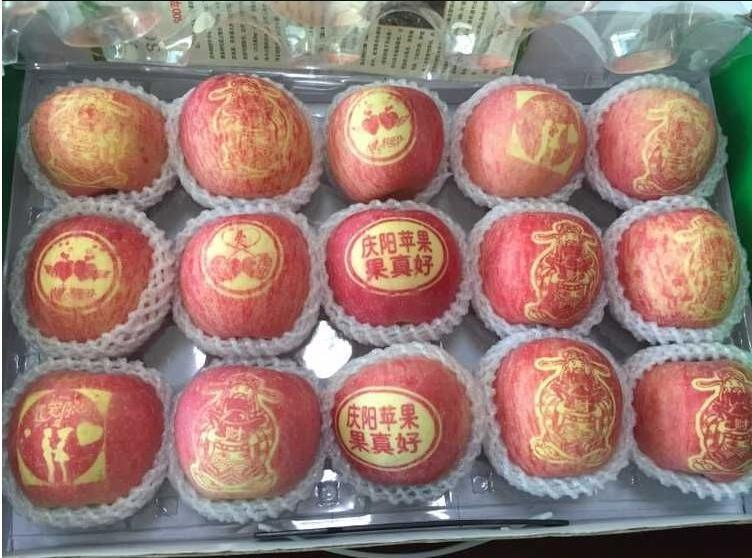apple: (9, 367, 164, 514), (325, 351, 475, 491), (485, 335, 624, 486), (176, 364, 323, 501), (177, 68, 316, 205), (605, 201, 743, 338), (24, 215, 162, 347), (177, 212, 314, 344), (450, 76, 589, 206), (324, 209, 467, 332), (631, 356, 752, 492), (588, 82, 719, 205), (29, 86, 171, 196), (475, 212, 603, 329), (325, 84, 446, 203)
